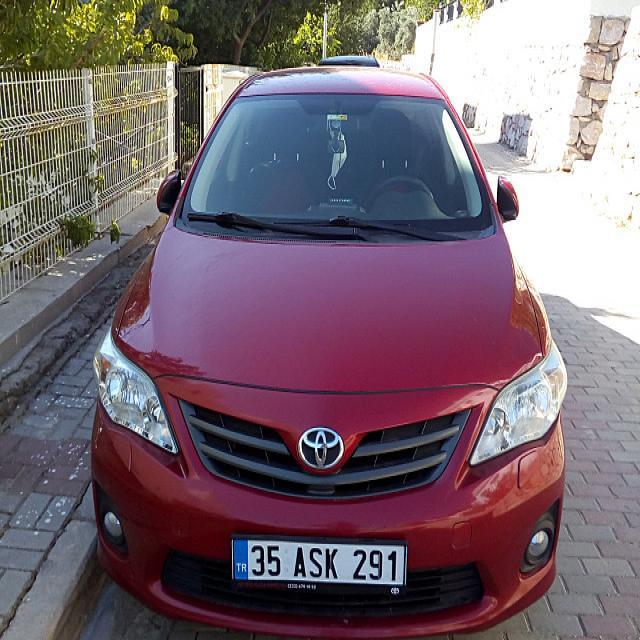plate: (229, 530, 410, 599)
